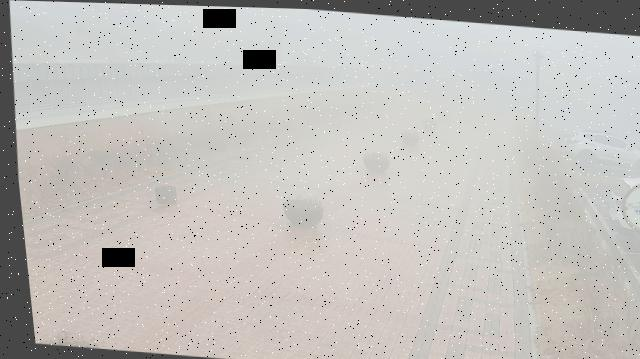bag: (150, 183, 175, 204)
